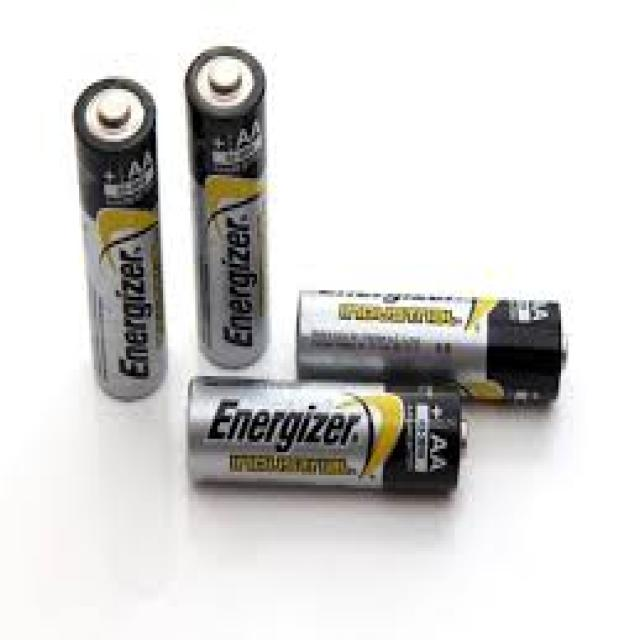Battery: (185, 375, 465, 494), (294, 286, 567, 402), (73, 78, 168, 402), (186, 48, 270, 369)
